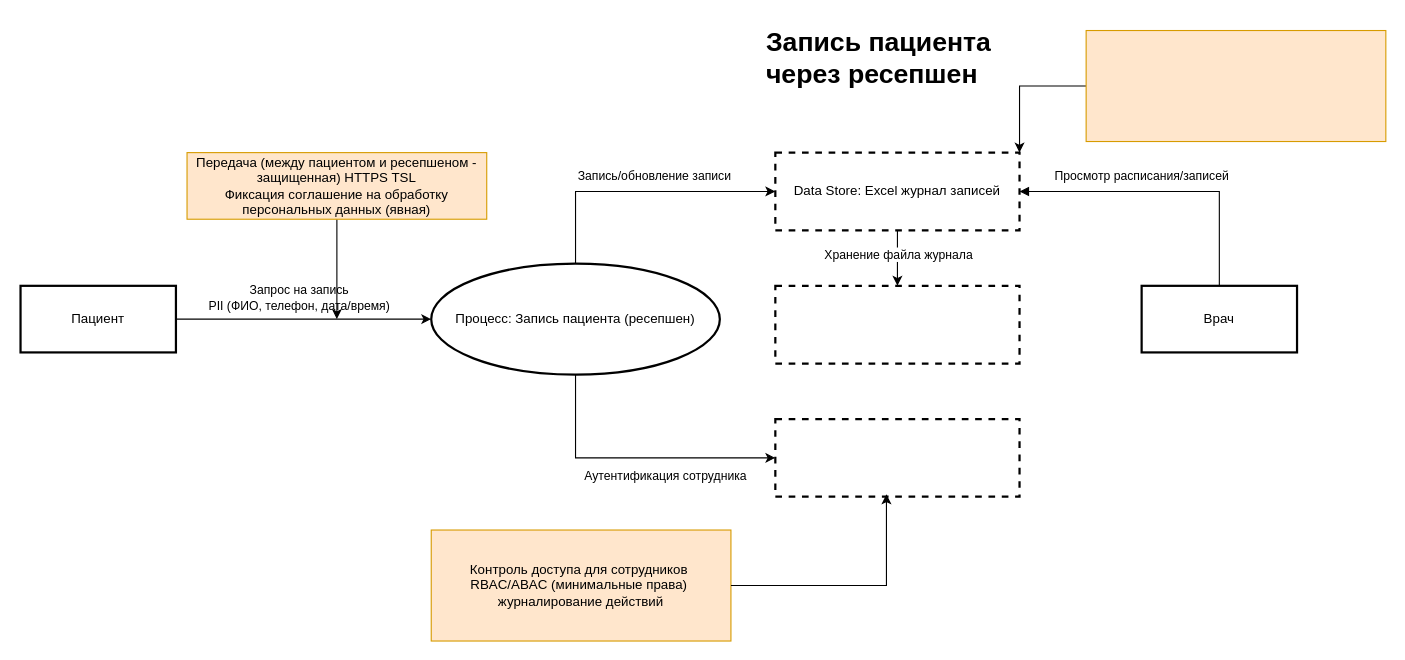
The diagram is 1405 pixels wide and 660 high, and some of its shapes have lost their labels. The box of each missing label's shape, as (x1, y1, x2, y2) in pixels:
Data Store: Active Directory: (774, 417, 1020, 497)
Data Store: Файловый сервер: (774, 284, 1020, 364)
Заменить Excel файлы на БД с разграничением доступа шифрованием: (1085, 29, 1386, 142)
